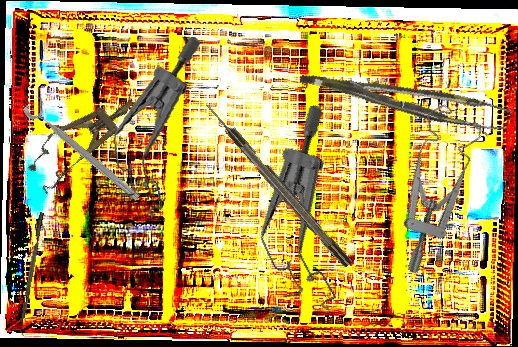Chopper: (16, 212, 50, 337)
Fixation Ring: (21, 93, 148, 205)
Hook Surgical: (203, 100, 353, 270)
Speculum: (216, 102, 399, 327), (343, 95, 516, 276), (96, 36, 224, 222), (19, 83, 146, 196)
Tissue Forceps: (300, 48, 513, 144)
